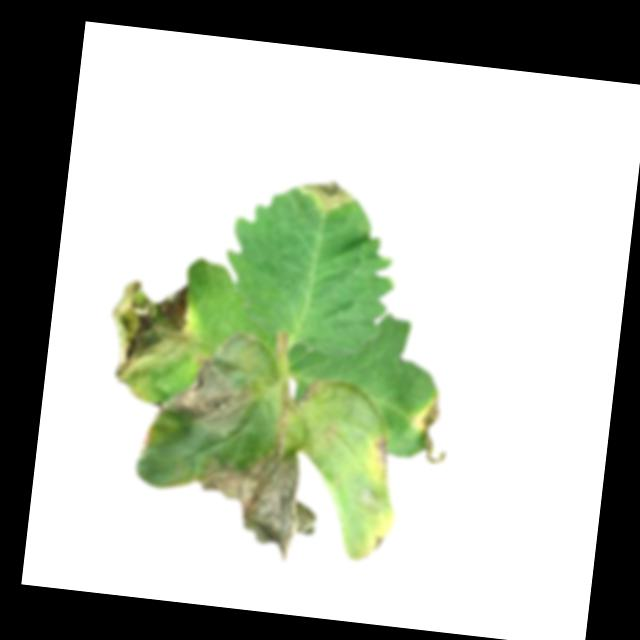Late_blight: (201, 441, 322, 565), (97, 277, 197, 402), (156, 325, 262, 437), (411, 395, 454, 468), (296, 175, 356, 214), (132, 411, 157, 456), (369, 431, 395, 473), (296, 377, 322, 405)
